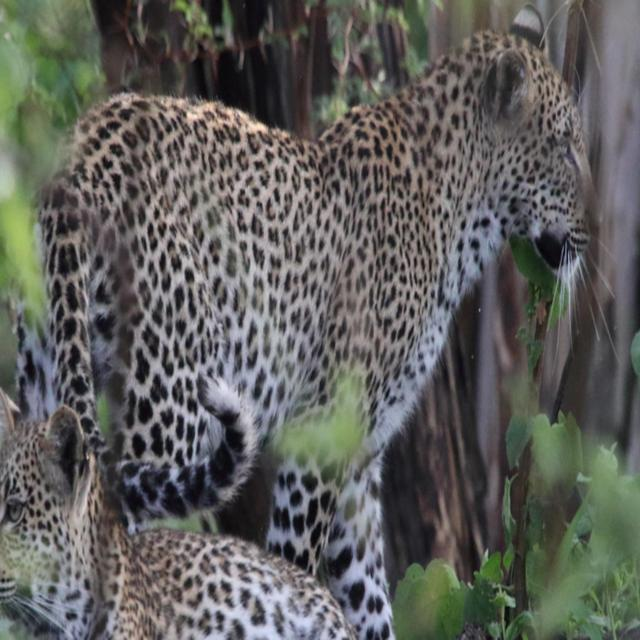Leopard: (25, 49, 586, 636)
